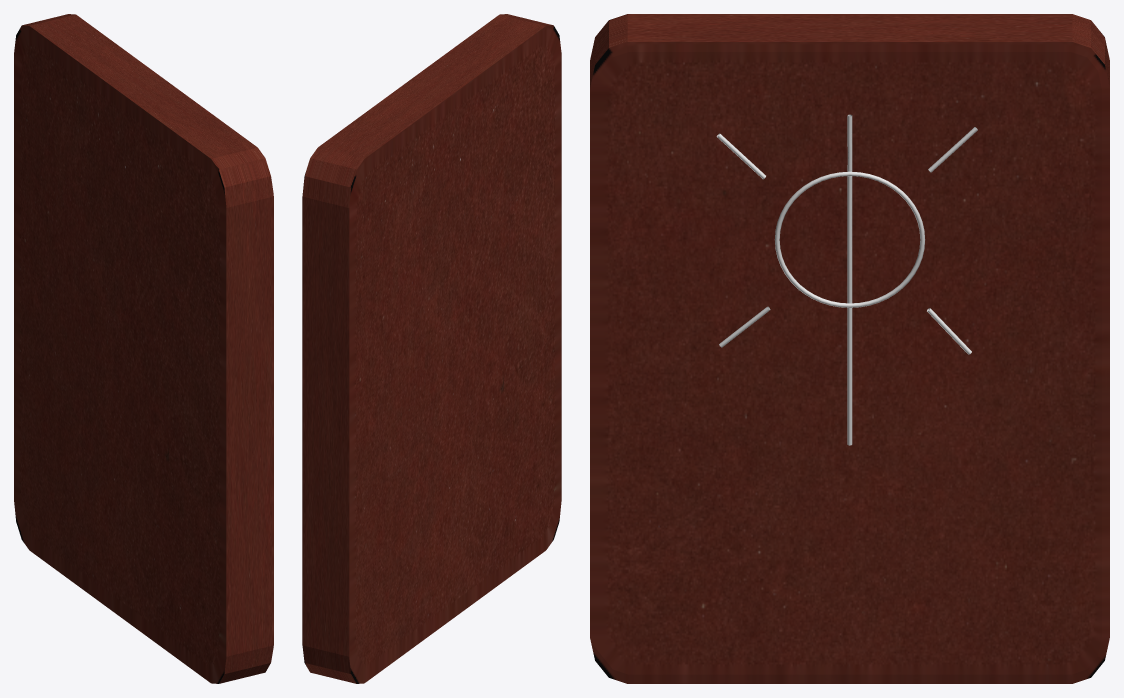
Rendered from bookVersãoParaUnity.fbx.
3 views of the same model, side by side, from view 1: azimuth 30°, elevation 25°; view 2: azimuth 150°, elevation 25°; view 3: azimuth 270°, elevation 25° (orthographic). The views are drawn at different scales.
Parts seen in each view (by area): view 1: Cube; view 2: Cube; view 3: Cube, BezierCurve.003.
Part boxes in pixels (<box>): Cube: <box>14,14,273,683</box>; Cube: <box>302,14,561,683</box>; Cube: <box>590,14,1109,683</box>; BezierCurve.003: <box>716,114,977,445</box>.
Size of the model in its own units: 118 by 877 by 643.
